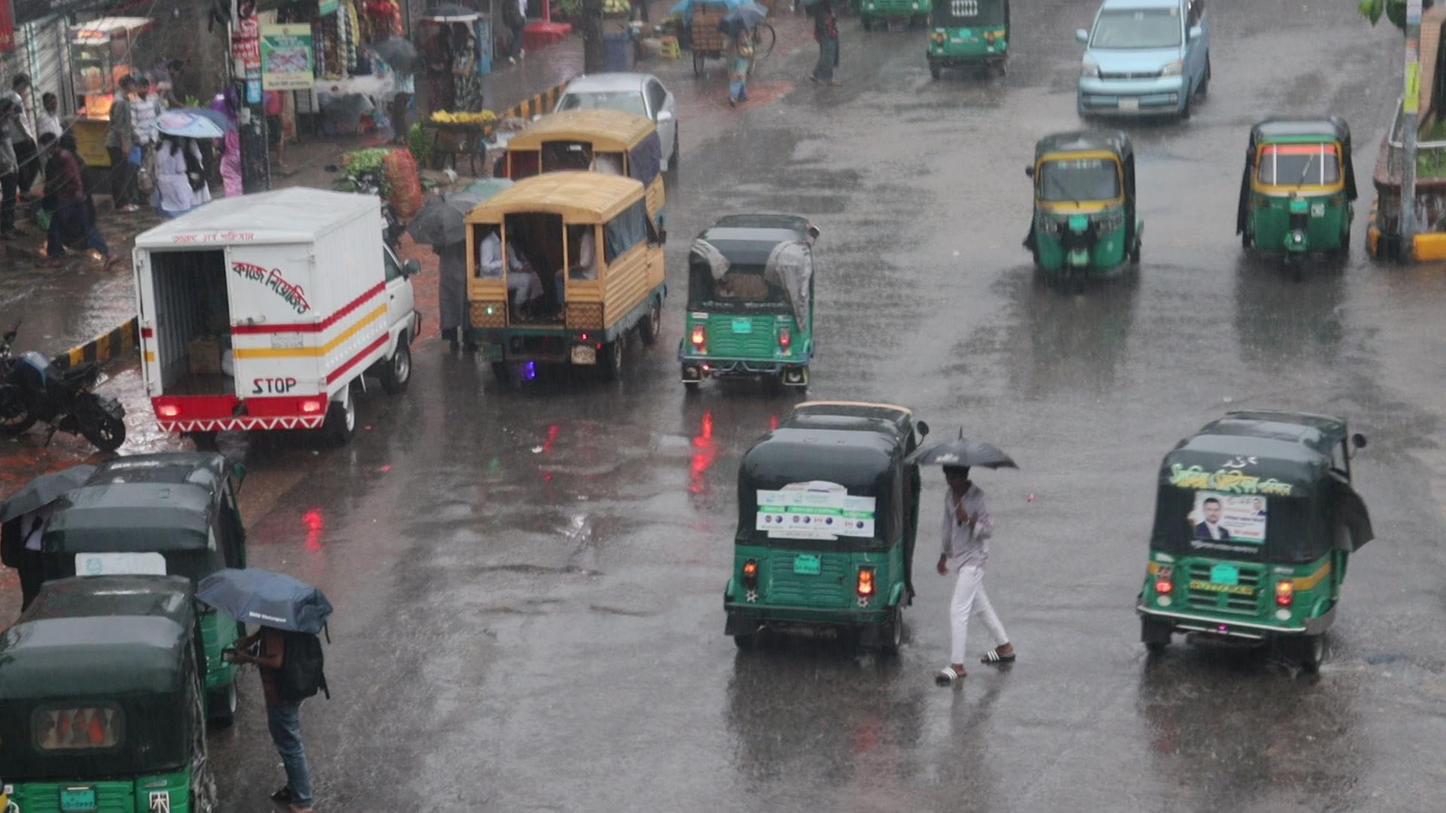Car: (1075, 0, 1212, 122)
Truck: (464, 167, 667, 378)
